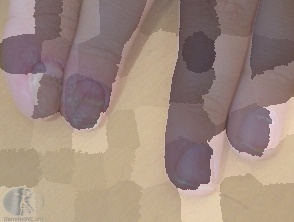Nail_psoriasis: (14, 56, 66, 120), (55, 83, 109, 134)
